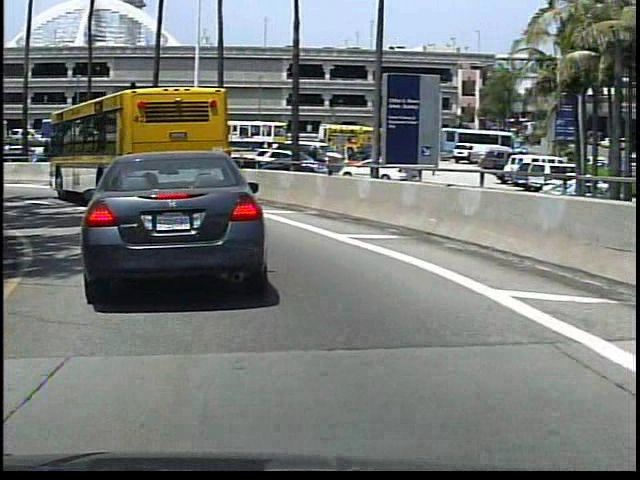person: (305, 144, 321, 178)
